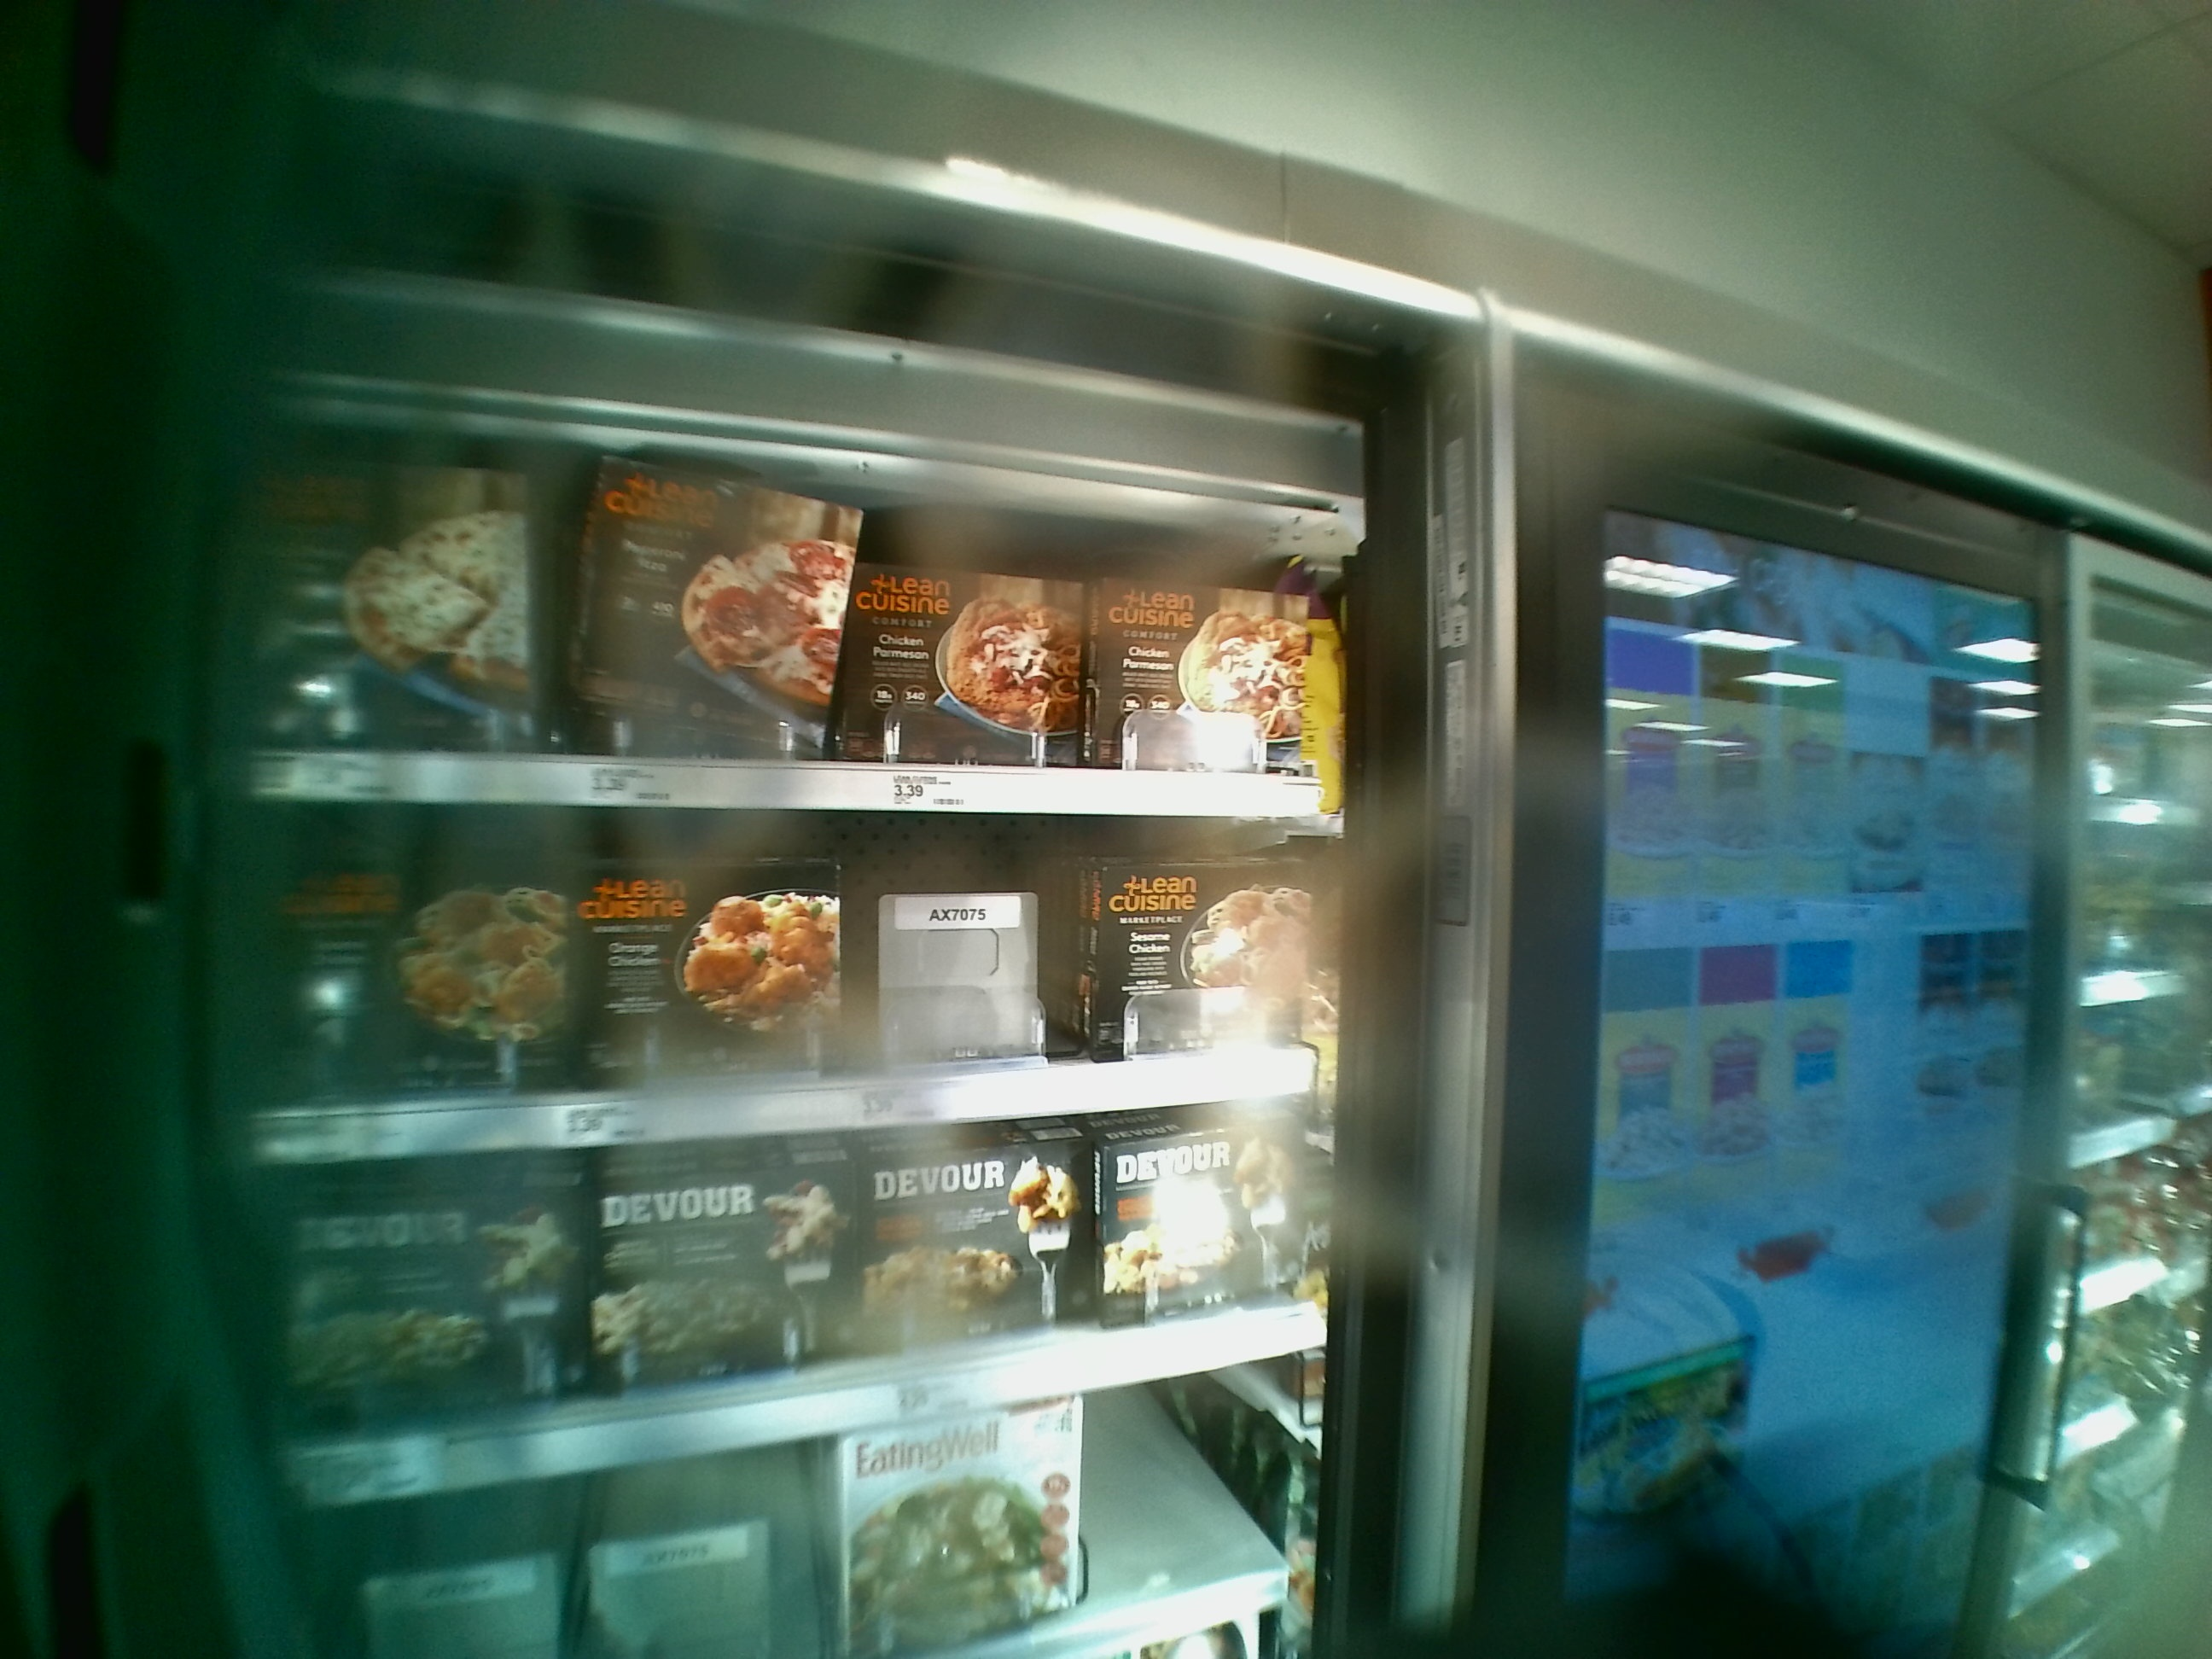shelf: (240, 382, 1339, 824), (223, 809, 1355, 1161)
